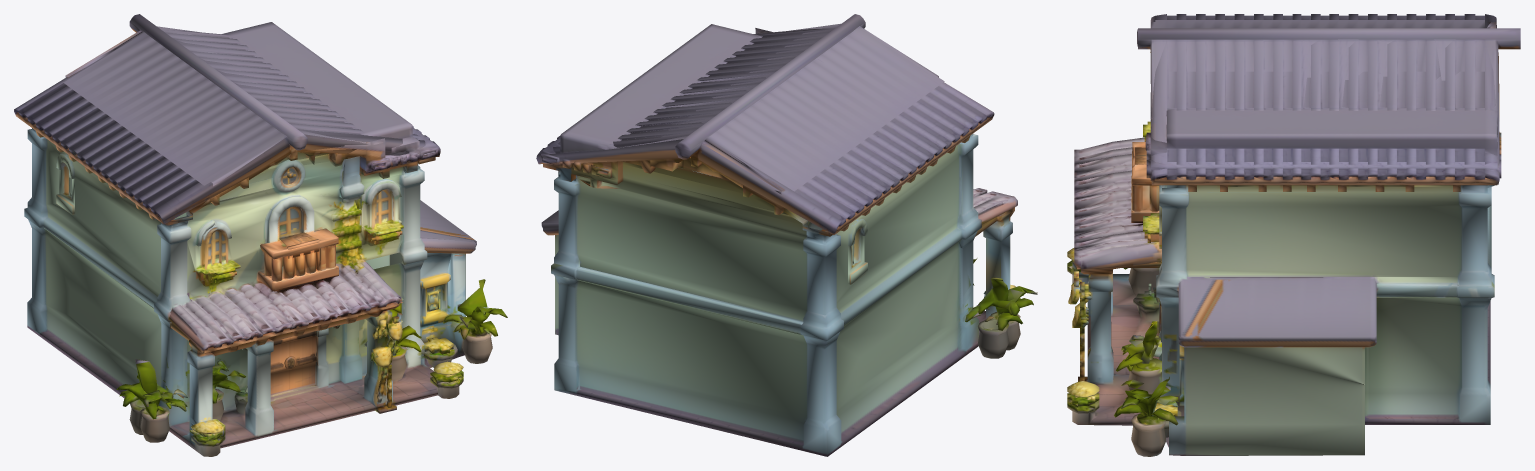
Rendered from casita2 .fbx.
3 renders of one model, left to right at view 1: azimuth 30°, elevation 25°; view 2: azimuth 150°, elevation 25°; view 3: azimuth 270°, elevation 25°, orthographic. The views are drawn at different scales.
Visible parts, largest first — view 1: mesh_rep_0_ori_repair_quad; view 2: mesh_rep_0_ori_repair_quad; view 3: mesh_rep_0_ori_repair_quad.
Boxes of the visible parts, <box> form: mesh_rep_0_ori_repair_quad: <box>14,14,507,456</box>; mesh_rep_0_ori_repair_quad: <box>536,14,1037,456</box>; mesh_rep_0_ori_repair_quad: <box>1067,14,1520,456</box>.
Bounding box in the file's own units: 88.77 × 63.39 × 81.01.
Materials: 1 (1 with a texture image).
